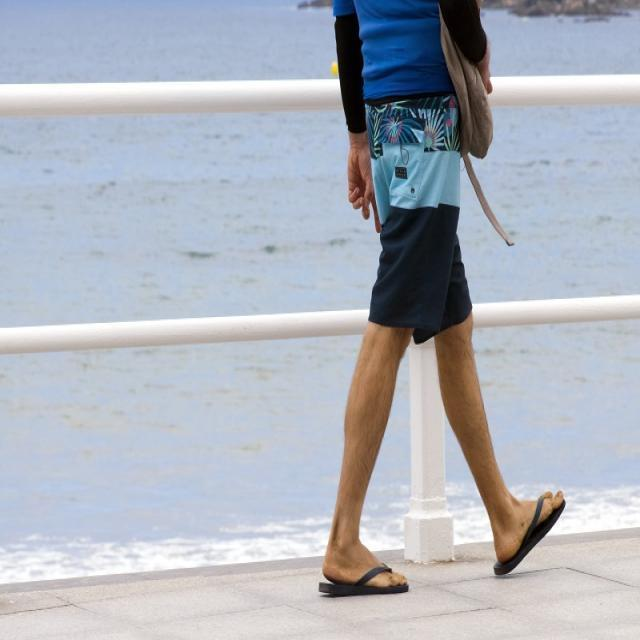No_Glove: (342, 135, 382, 225)
No_Shoe: (488, 489, 570, 572), (319, 532, 414, 603)
